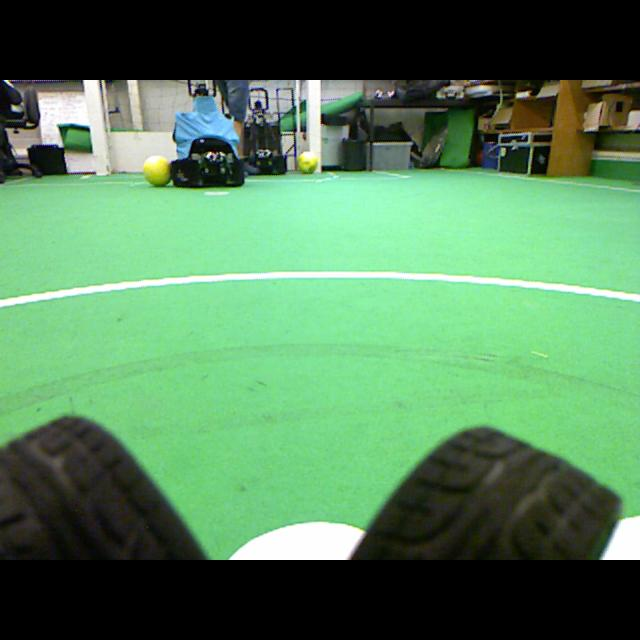ball: (143, 156, 171, 186), (297, 152, 318, 173)
goal: (82, 80, 108, 176), (310, 80, 321, 174)
robot: (244, 88, 288, 175)
